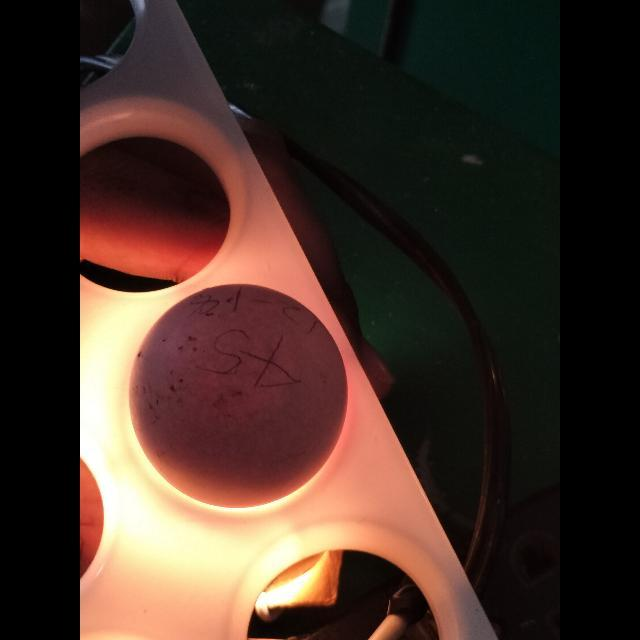B - Fair: (128, 284, 342, 504)
